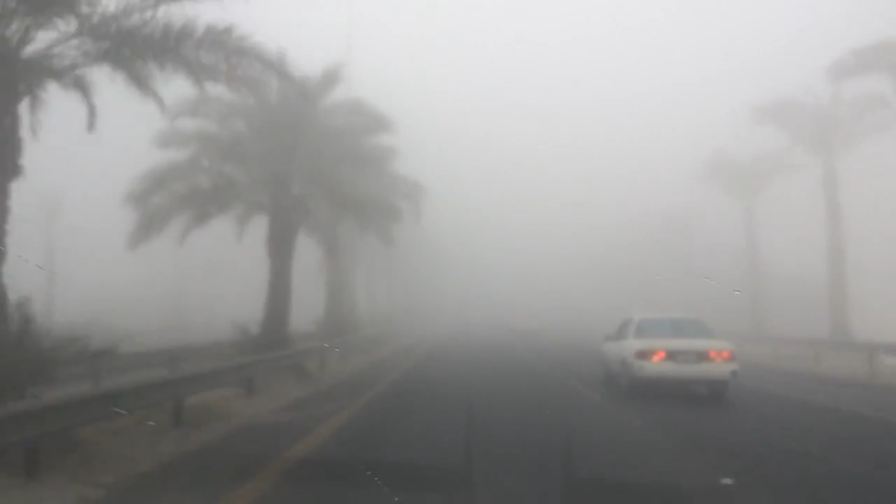car: (597, 312, 739, 397)
